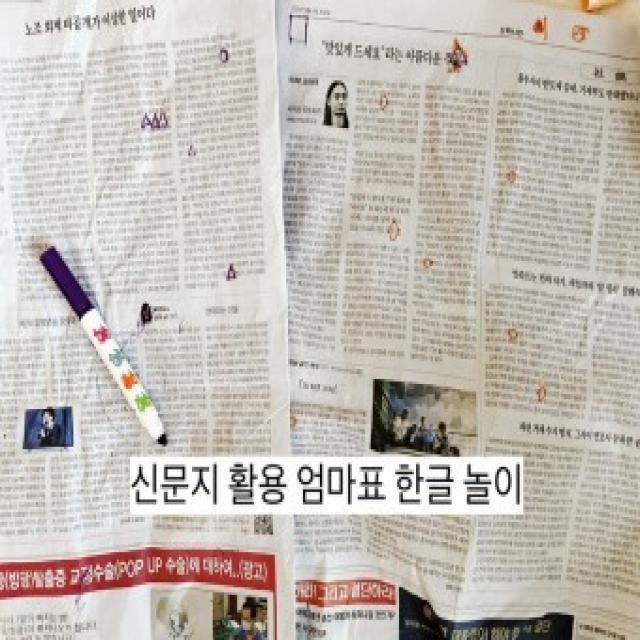Newspaper: (88, 29, 526, 275)
